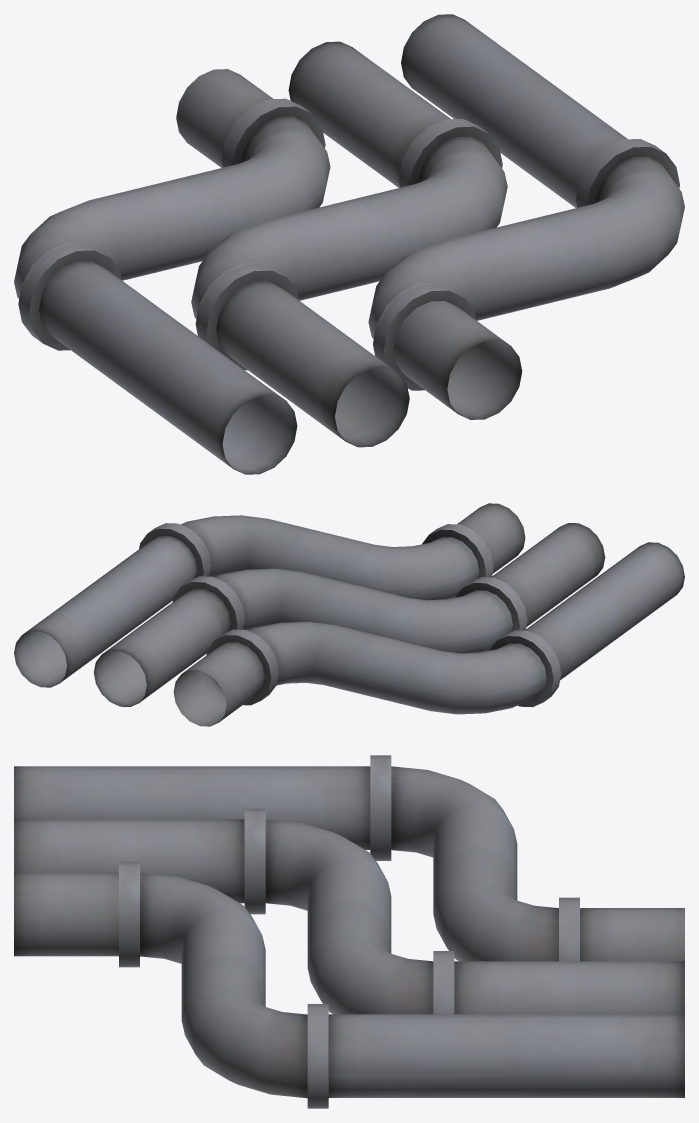
Rendered from props_hydro_3pipe_jog_64.glb.
The picture shows the model from 3 angles, top to bottom: view 1: azimuth 30°, elevation 25°; view 2: azimuth 150°, elevation 25°; view 3: azimuth 270°, elevation 25°; orthographic projection. The views are drawn at different scales.
Parts seen in each view (by area): view 1: models/props_hydro/3pipe_jog_64; view 2: models/props_hydro/3pipe_jog_64; view 3: models/props_hydro/3pipe_jog_64.
Part boxes in pixels (x1,y1,x2,y2): models/props_hydro/3pipe_jog_64: (14, 14, 684, 474); models/props_hydro/3pipe_jog_64: (14, 503, 684, 726); models/props_hydro/3pipe_jog_64: (14, 755, 684, 1108).
Size of the model in its own units: 66.05 by 10.1 by 64.
Materials: 1 (1 with a texture image).
